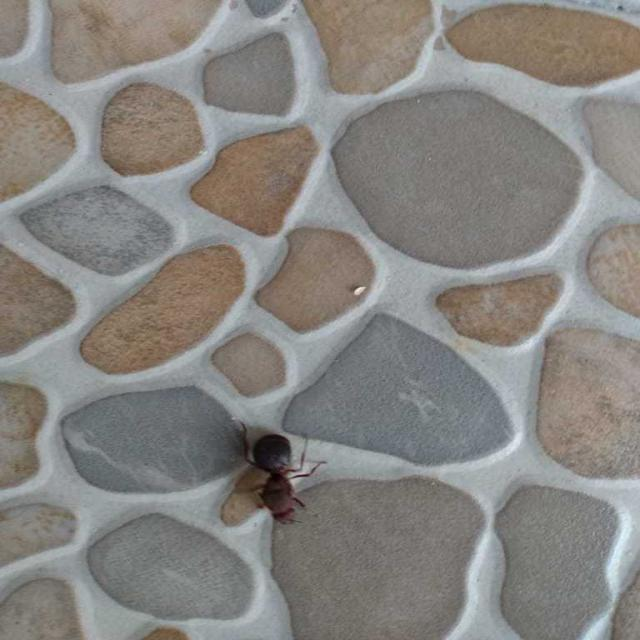Alive-Female-Dealate: (234, 418, 328, 528)
